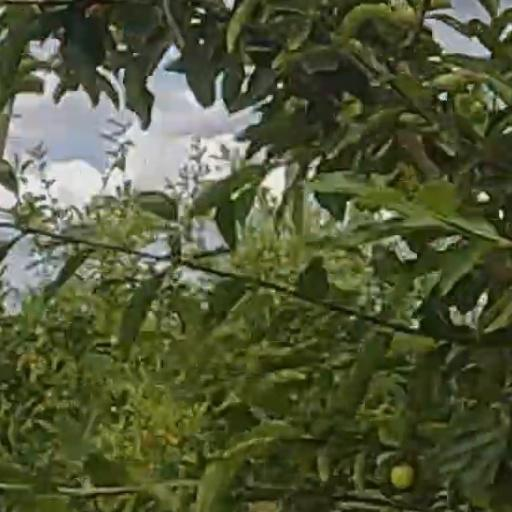acerola_verde: (391, 466, 413, 488)
